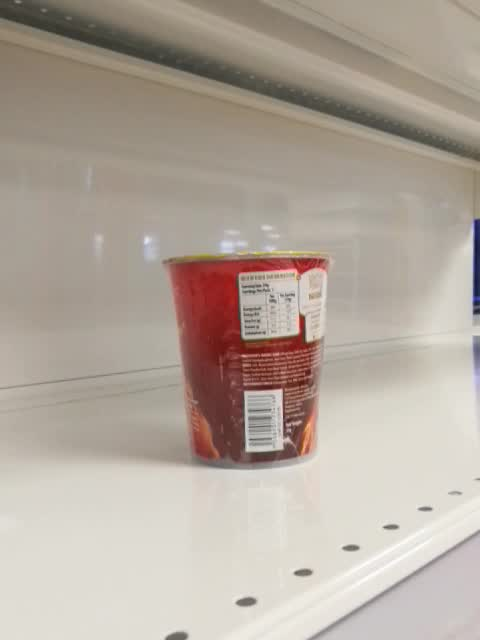maggi: (161, 251, 332, 471)
